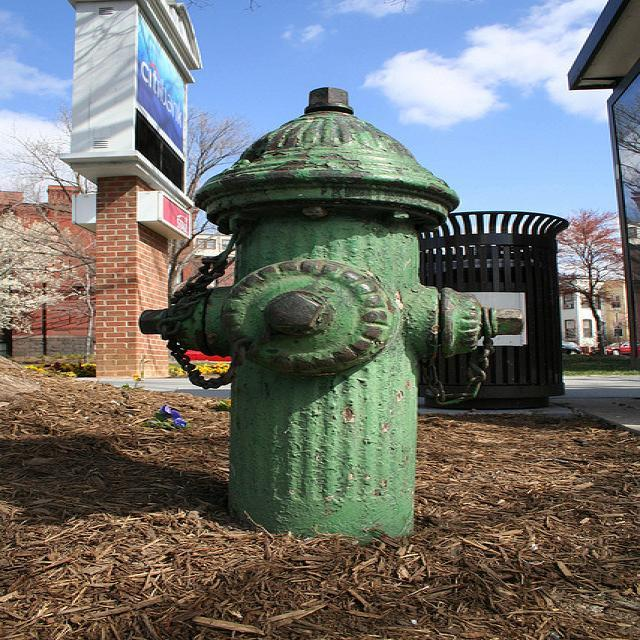fire_hydrant: (140, 86, 528, 542)
